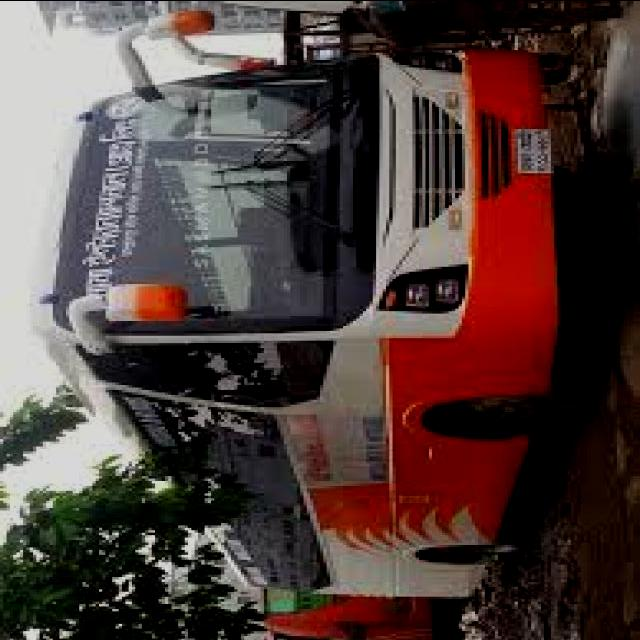bus: (30, 12, 598, 598)
